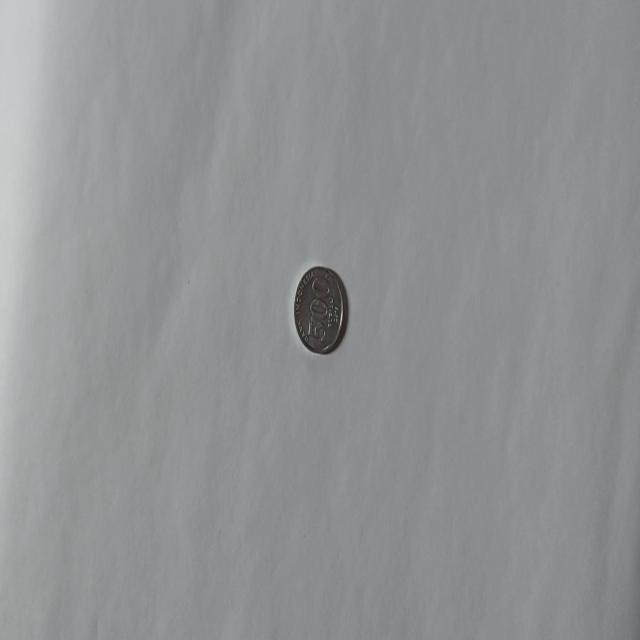lima ratus rupiah: (292, 264, 346, 355)
